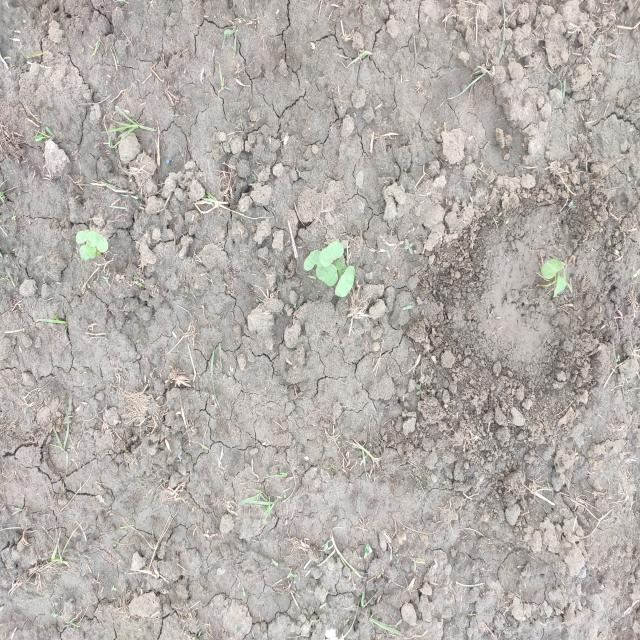seedling: (319, 241, 344, 267), (335, 266, 355, 297), (541, 259, 564, 280), (86, 231, 108, 252), (318, 264, 338, 287), (553, 268, 566, 298), (304, 250, 319, 271), (80, 243, 96, 260), (76, 229, 91, 243), (316, 251, 323, 280), (336, 259, 347, 275)
